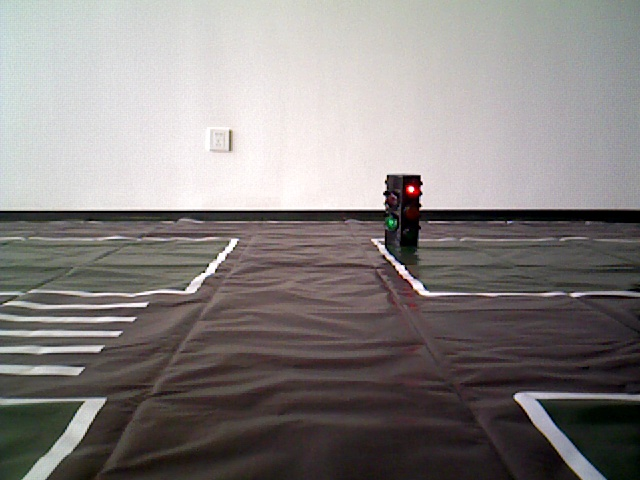red: (384, 177, 420, 258)
